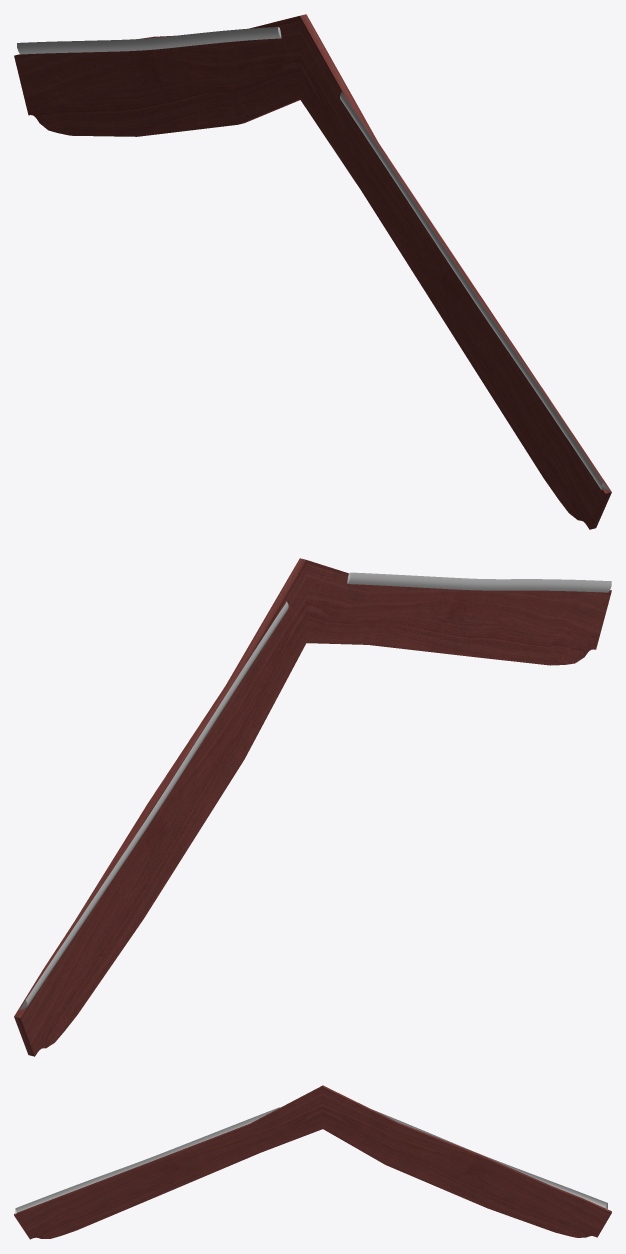
Rendered from SM_Giwa05E_a5.fbx.
3 renders of one model, top to bottom at view 1: azimuth 30°, elevation 25°; view 2: azimuth 150°, elevation 25°; view 3: azimuth 270°, elevation 25°, orthographic. The views are drawn at different scales.
Parts seen in each view (by area): view 1: SM_Giwa05E_a5; view 2: SM_Giwa05E_a5; view 3: SM_Giwa05E_a5.
Part boxes in pixels (bbox=[...]): SM_Giwa05E_a5: bbox=[14, 14, 611, 529]; SM_Giwa05E_a5: bbox=[14, 558, 611, 1056]; SM_Giwa05E_a5: bbox=[14, 1085, 611, 1239].
Size of the model in its own units: 4.96 by 606 by 171.
